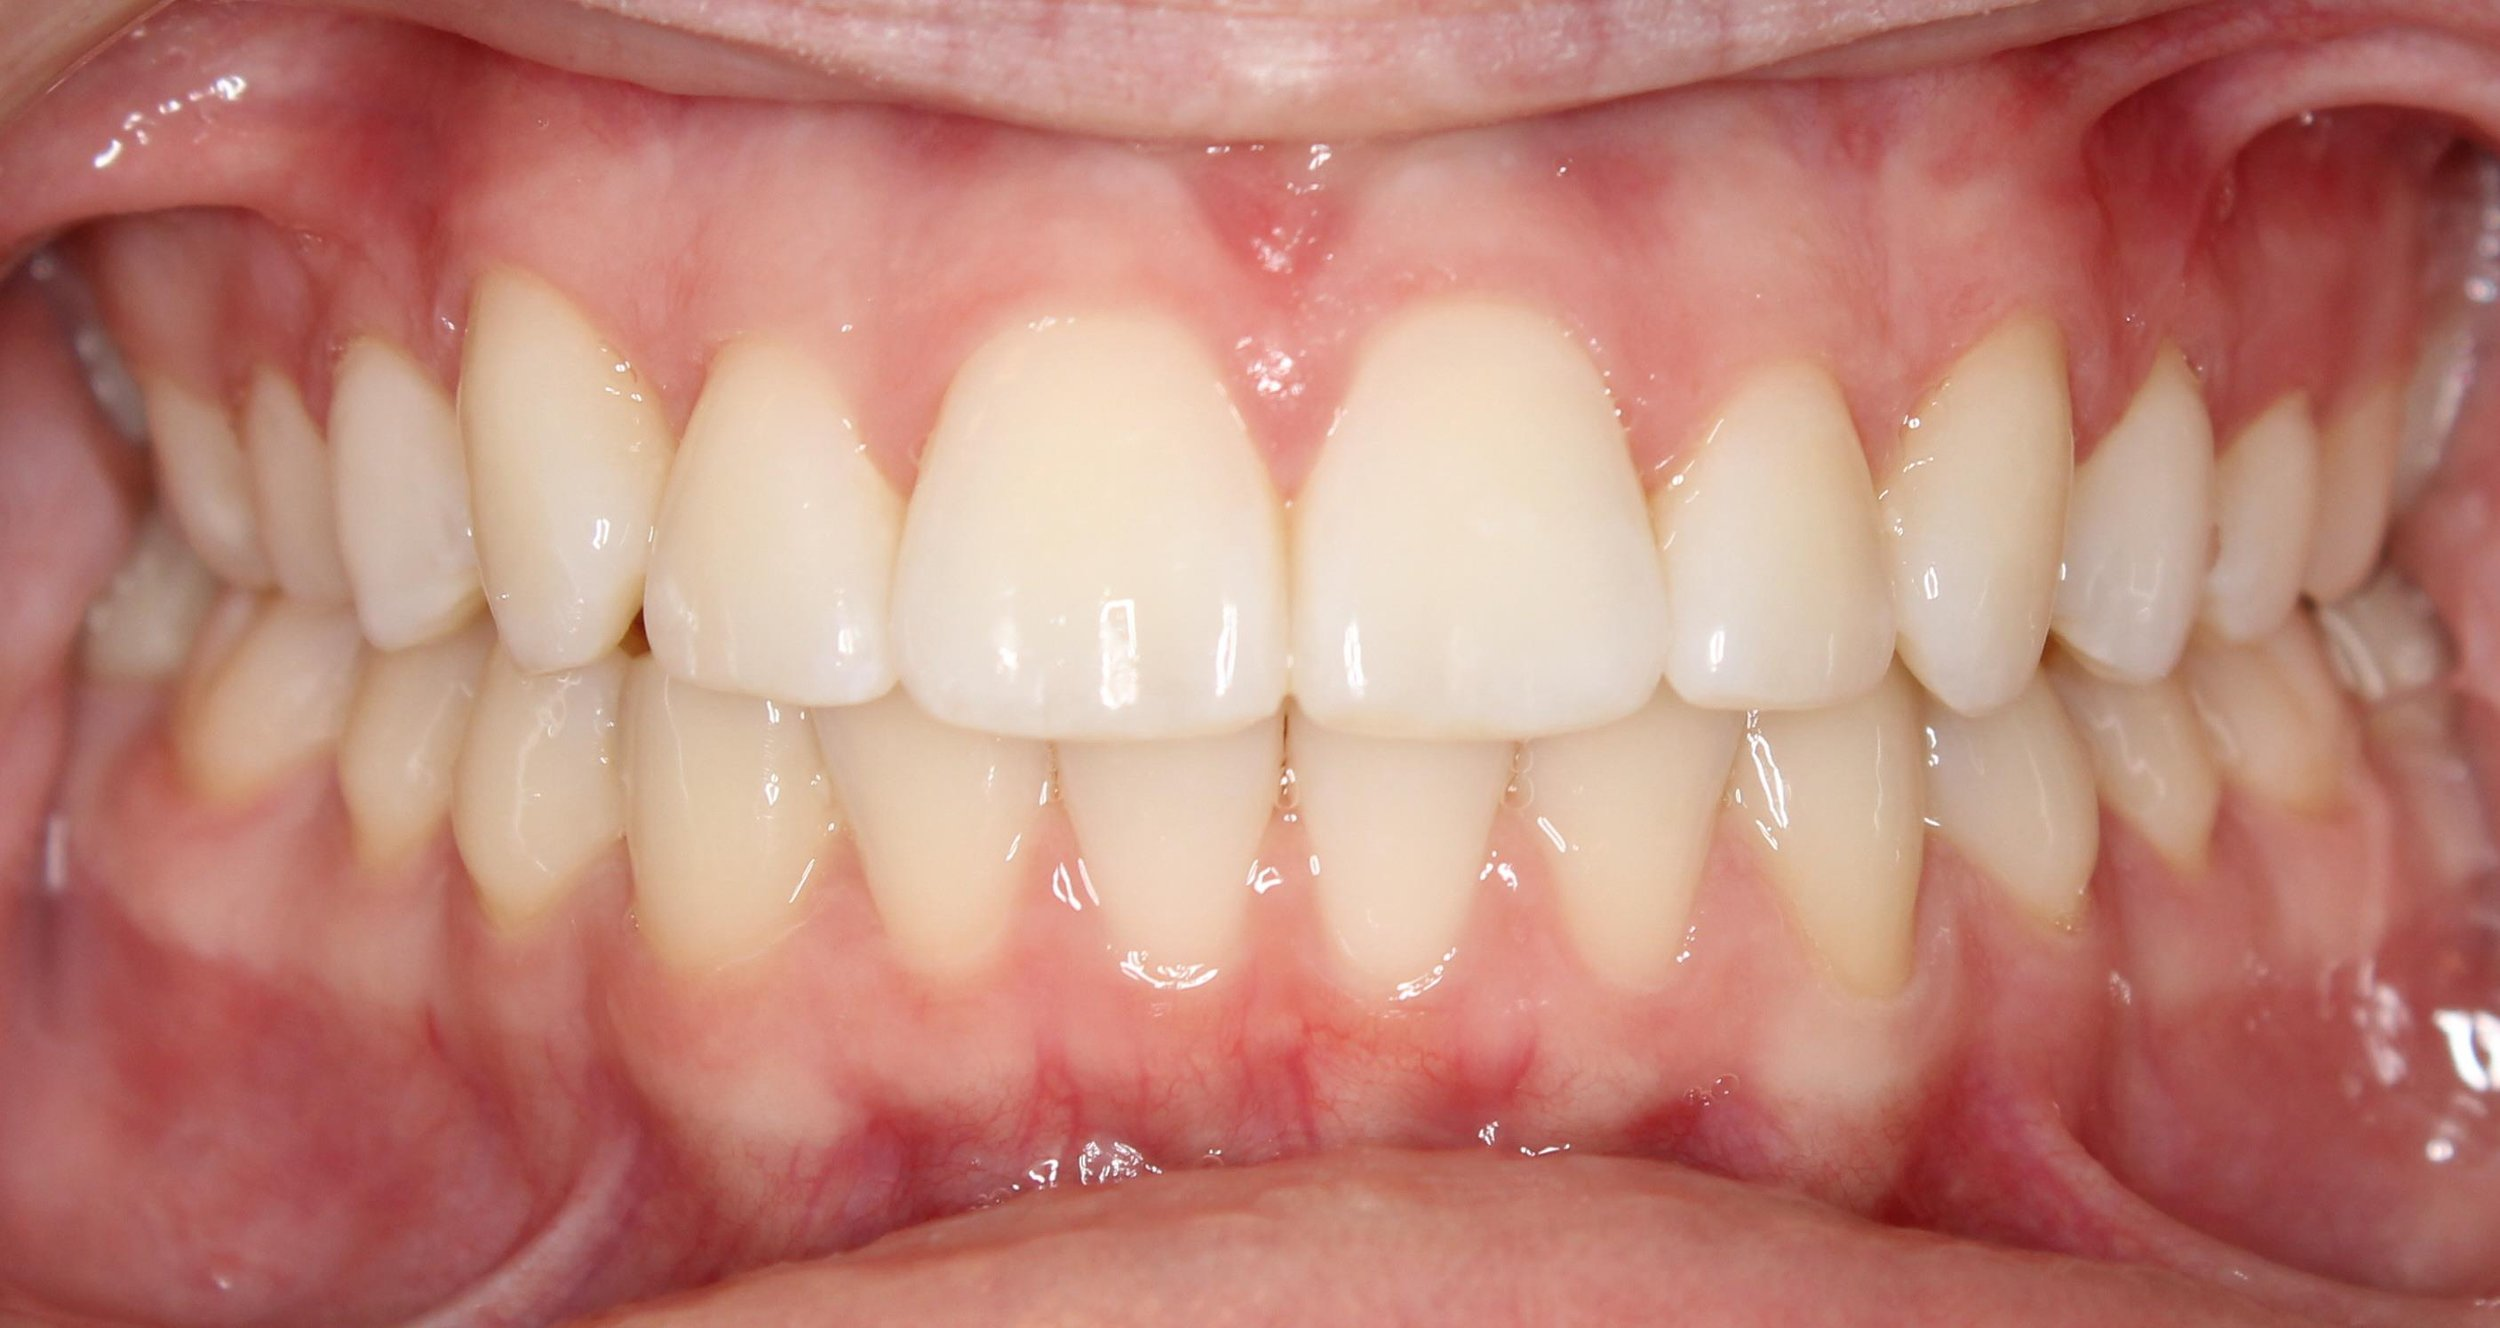LL1BC_healthy: (1930, 698, 2093, 936)
LL1M_healthy: (2216, 633, 2363, 829)
LL2BC_healthy: (2108, 668, 2229, 867)
LLCI_healthy: (1278, 733, 1518, 1020)
LLC_healthy: (1733, 693, 1939, 1014)
LLLI_healthy: (1508, 713, 1756, 1030)
LR1BC_healthy: (456, 655, 627, 958)
LR1M_healthy: (185, 614, 354, 829)
LR2BC_healthy: (354, 650, 478, 898)
LRCI_healthy: (1070, 736, 1271, 996)
LRC_healthy: (627, 663, 848, 996)
LRLI_healthy: (845, 714, 1070, 991)
UL1BC_healthy: (2078, 361, 2216, 705)
UL2BC_healthy: (2216, 387, 2318, 660)
ULCI_healthy: (1305, 289, 1678, 748)
ULC_healthy: (1893, 339, 2078, 705)
ULLI_healthy: (1667, 351, 1901, 713)
UR1BC_healthy: (321, 314, 504, 642)
UR2BC_healthy: (235, 361, 354, 622)
URCI_healthy: (891, 298, 1305, 752)
URC_healthy: (445, 266, 666, 701)
URLI_healthy: (640, 332, 908, 713)
